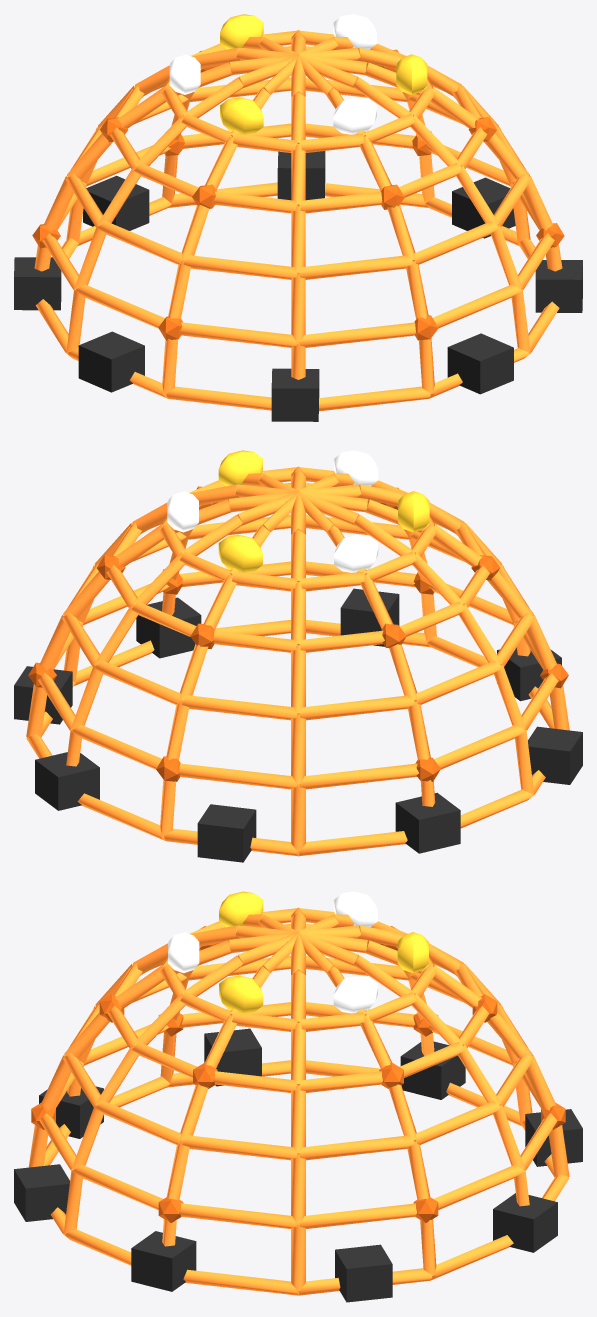
The model's file is ghost-net.glb.
The picture shows the model from 3 angles, top to bottom: view 1: azimuth 30°, elevation 25°; view 2: azimuth 150°, elevation 25°; view 3: azimuth 270°, elevation 25°; orthographic projection.
Parts seen in each view (by area): view 1: ghost-net; view 2: ghost-net; view 3: ghost-net.
Boxes of the visible parts, bbox=[...] form: ghost-net: bbox=[14, 14, 582, 421]; ghost-net: bbox=[14, 450, 582, 862]; ghost-net: bbox=[14, 891, 582, 1302].
Bounding box in the file's own units: 2.16 × 1.06 × 2.16.
